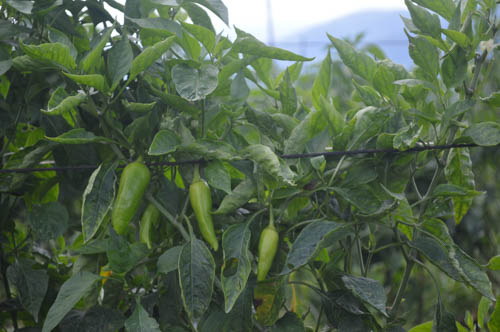ChiliPepper: (111, 163, 148, 240), (189, 181, 220, 251), (257, 229, 278, 281), (140, 207, 161, 248)
